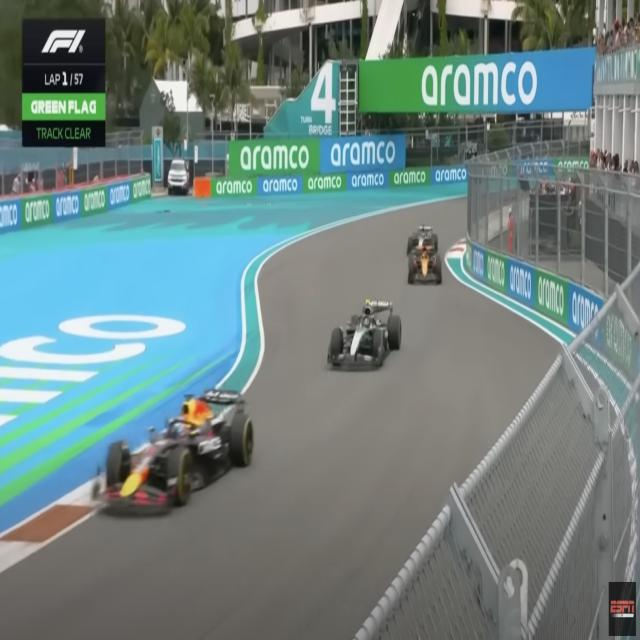McLaren: (409, 243, 441, 285)
Mercedes: (328, 296, 401, 375), (408, 222, 438, 256)
Red Bull: (92, 385, 255, 518)
